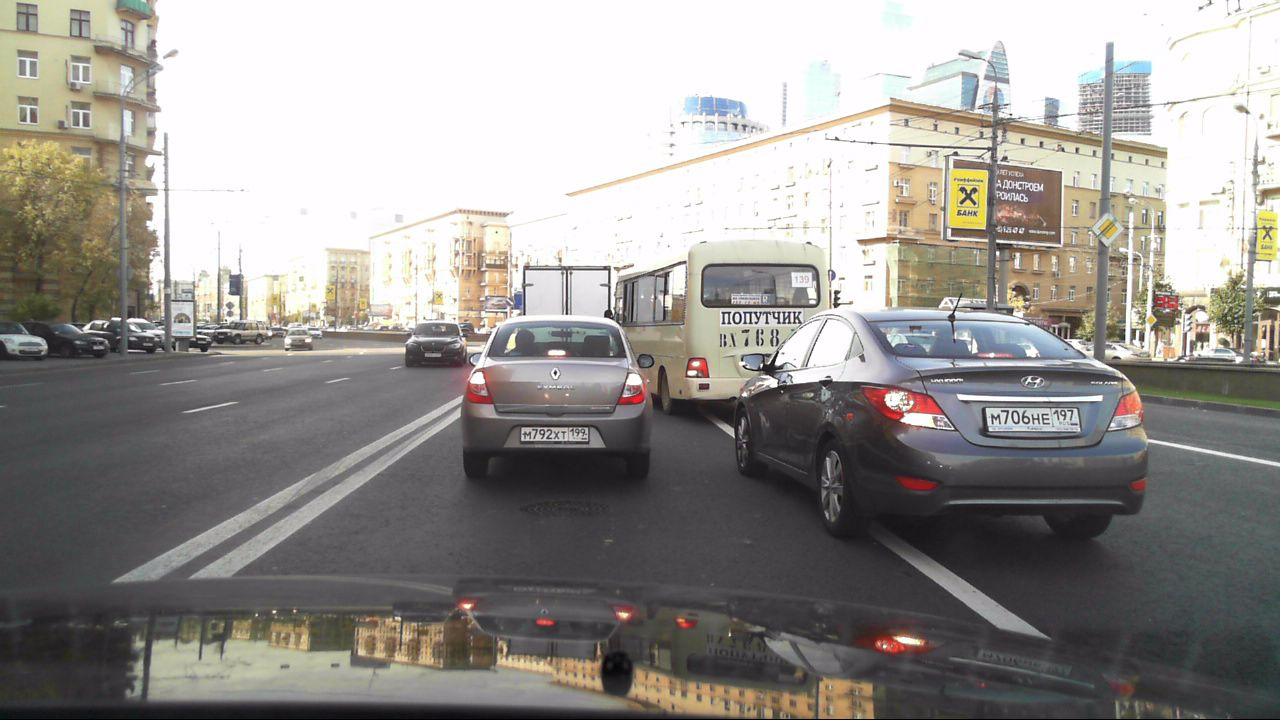main road: (1090, 211, 1126, 249)
